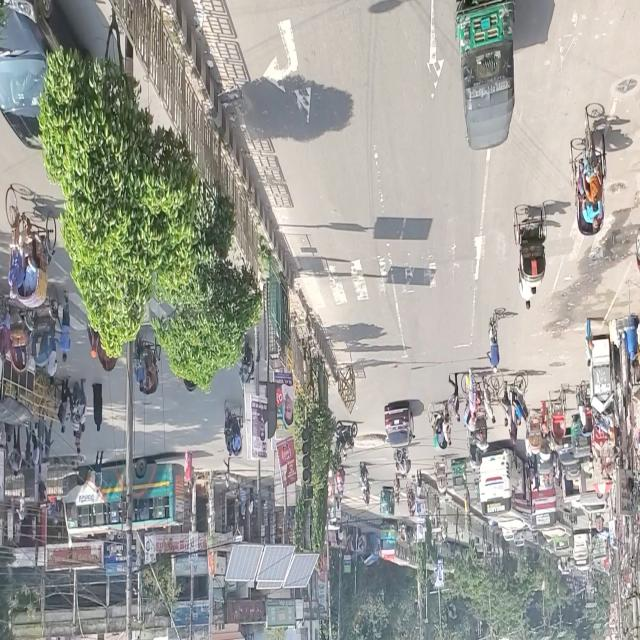black: (383, 401, 413, 448)
